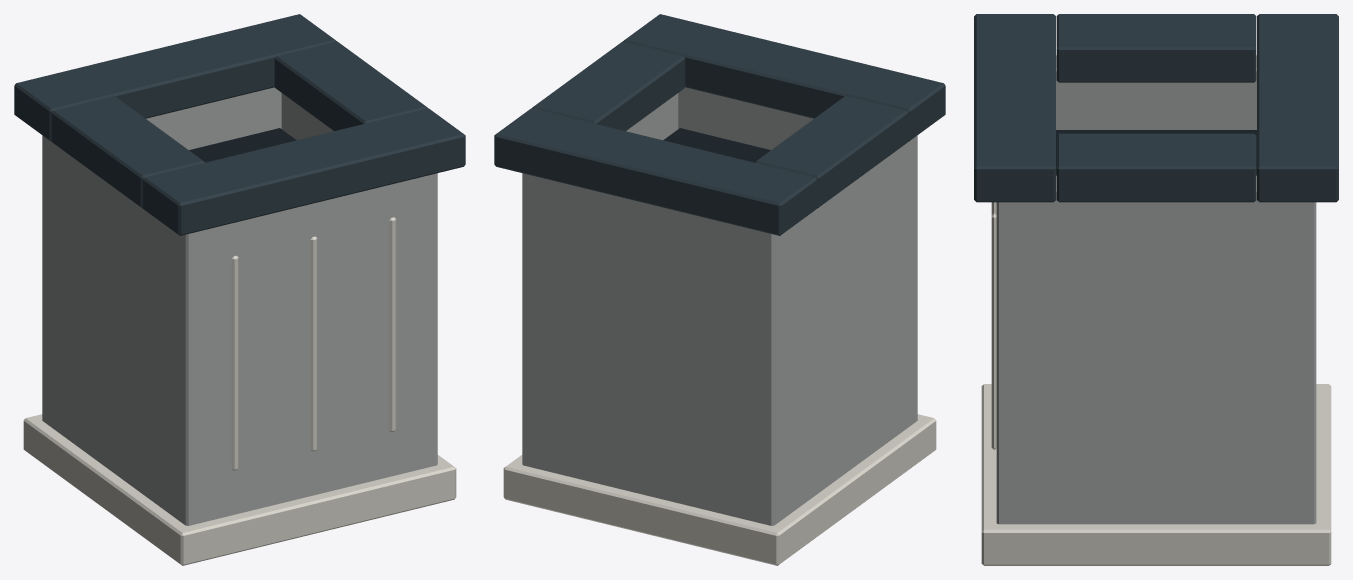
The model's file is b04_square_concrete_park_receptacle.glb.
3 views of the same model, side by side, from view 1: azimuth 30°, elevation 25°; view 2: azimuth 150°, elevation 25°; view 3: azimuth 270°, elevation 25° (orthographic). The views are drawn at different scales.
Visible parts, largest first — view 1: b04_square_concrete_park_receptacle; view 2: b04_square_concrete_park_receptacle; view 3: b04_square_concrete_park_receptacle.
Part boxes in pixels (bbox=[...]): b04_square_concrete_park_receptacle: bbox=[14, 14, 465, 565]; b04_square_concrete_park_receptacle: bbox=[494, 14, 945, 565]; b04_square_concrete_park_receptacle: bbox=[974, 14, 1338, 565].
Bounding box in the file's own units: 0.73 × 0.89 × 0.73.
